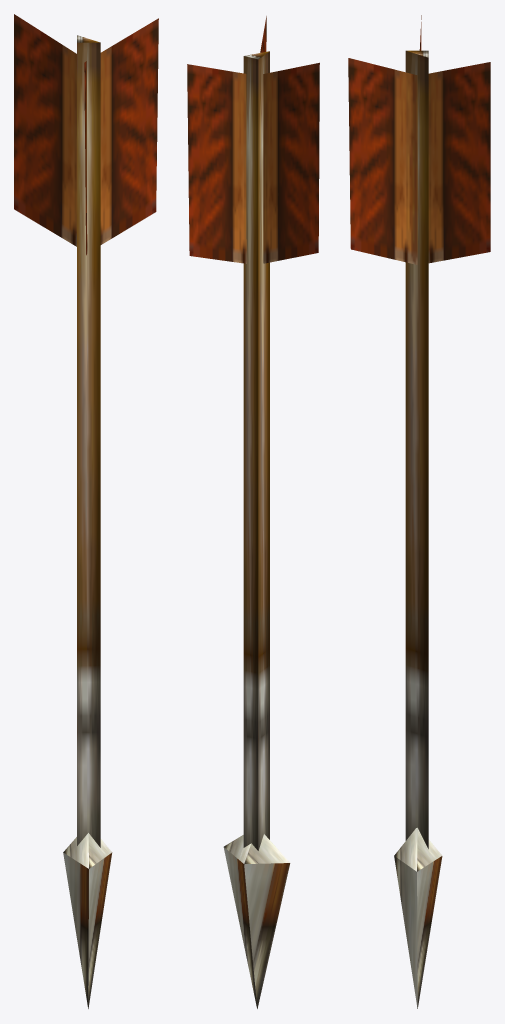
Rendered from humanarrow.obj.
3 views of the same model, side by side, from view 1: azimuth 90°, elevation 25°; view 2: azimuth 150°, elevation 25°; view 3: azimuth 270°, elevation 25° (orthographic).
Visible parts, largest first — view 1: humanarrow; view 2: humanarrow; view 3: humanarrow.
Boxes of the visible parts, left/top/right/bottom form: humanarrow: left=14, top=14, right=158, bottom=1008; humanarrow: left=187, top=16, right=319, bottom=1008; humanarrow: left=348, top=15, right=490, bottom=1008.
Bounding box in the file's own units: 0.0927 × 0.8674 × 0.1162.
Materials: 1 (1 with a texture image).
